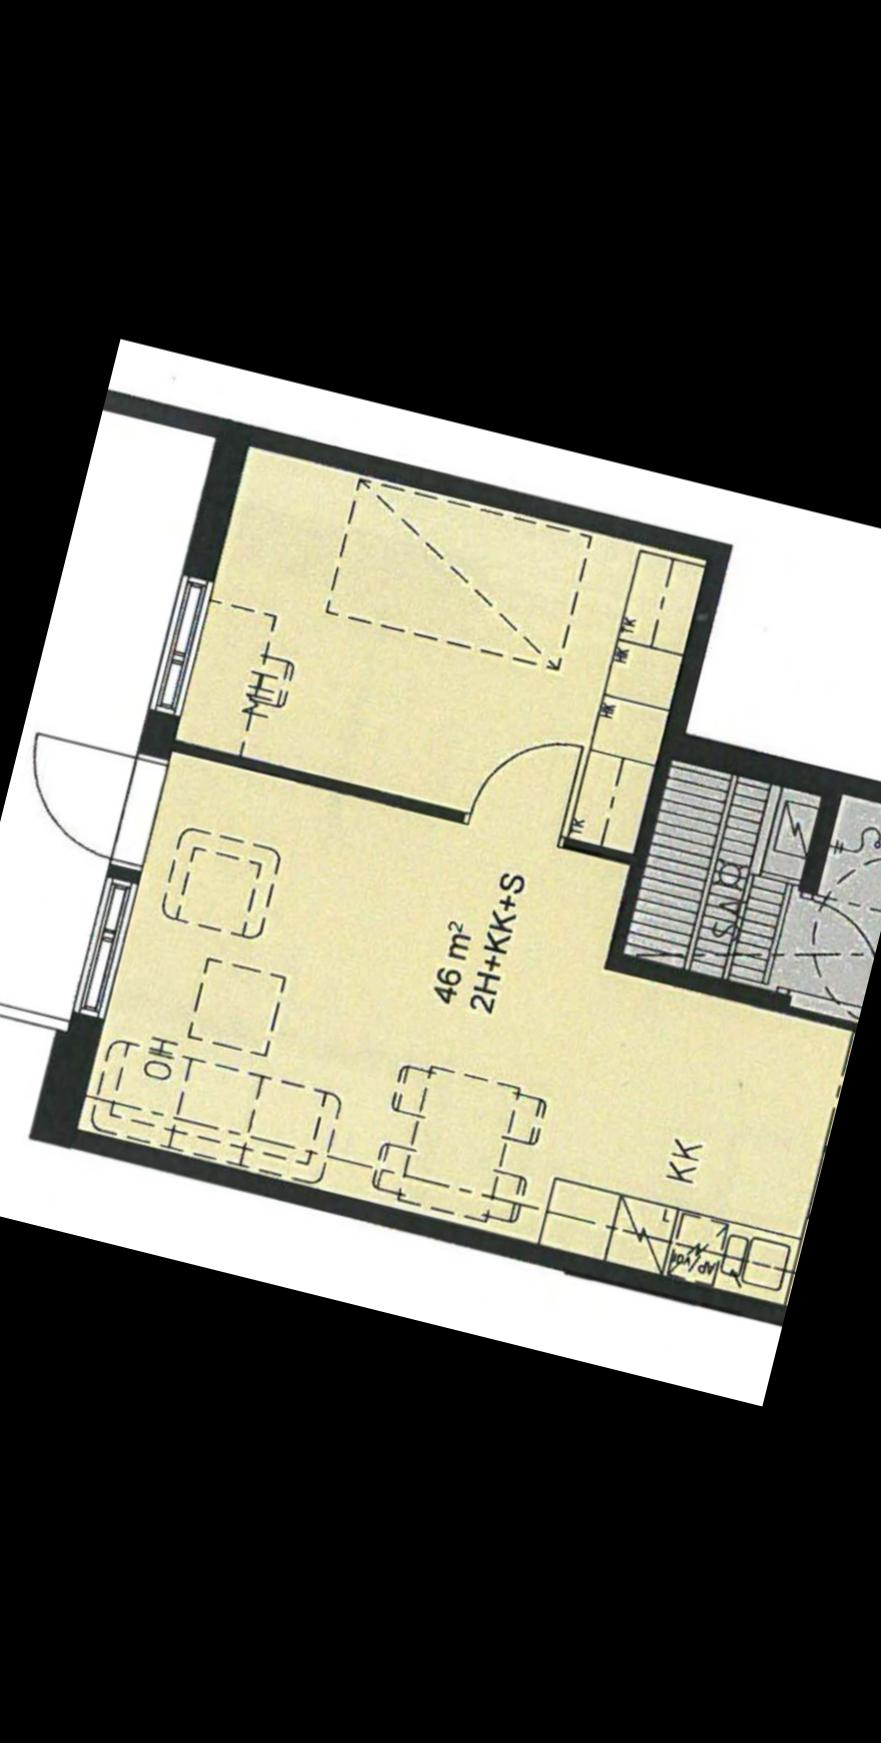door: (1, 718, 167, 879), (455, 710, 593, 855)
window: (134, 555, 233, 730), (53, 863, 148, 1033)
